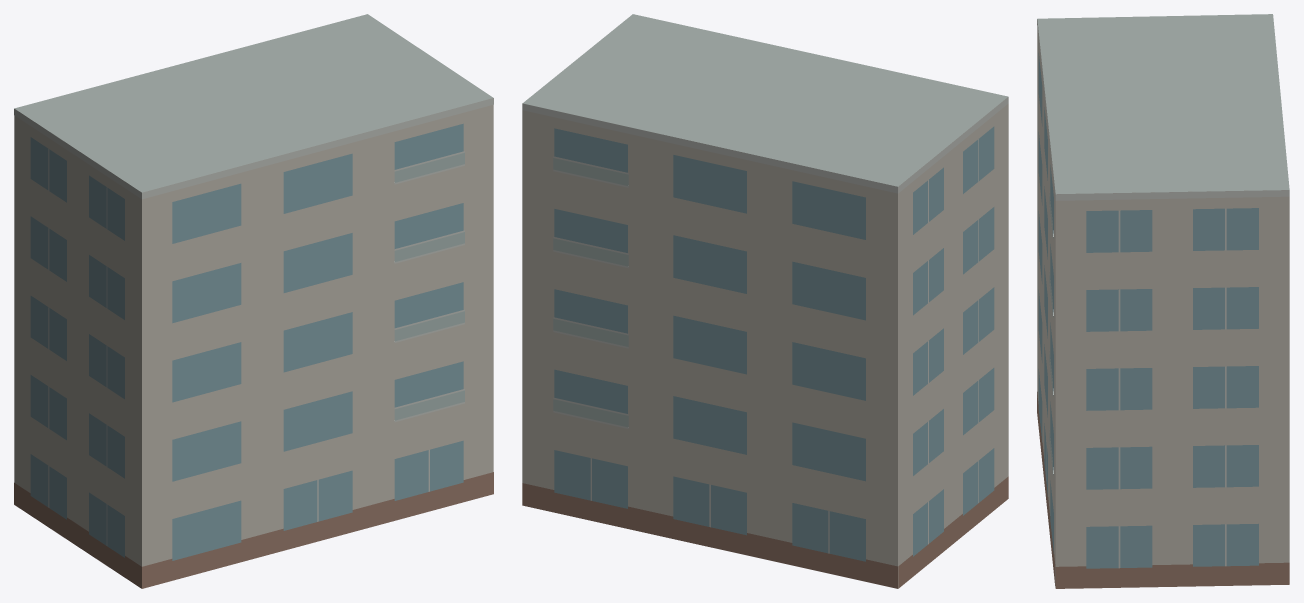
Rendered from survey-upis-32848624.glb.
3 views of the same model, side by side, from view 1: azimuth 30°, elevation 25°; view 2: azimuth 150°, elevation 25°; view 3: azimuth 270°, elevation 25° (orthographic).
Visible parts, largest first — view 1: survey-upis-32848624.tmp; view 2: survey-upis-32848624.tmp; view 3: survey-upis-32848624.tmp.
Part boxes in pixels (<box>): survey-upis-32848624.tmp: <box>14,14,493,588</box>; survey-upis-32848624.tmp: <box>522,14,1008,588</box>; survey-upis-32848624.tmp: <box>1037,14,1289,588</box>.
Bounding box in the file's own units: 14.1 × 14.4 × 8.36.
